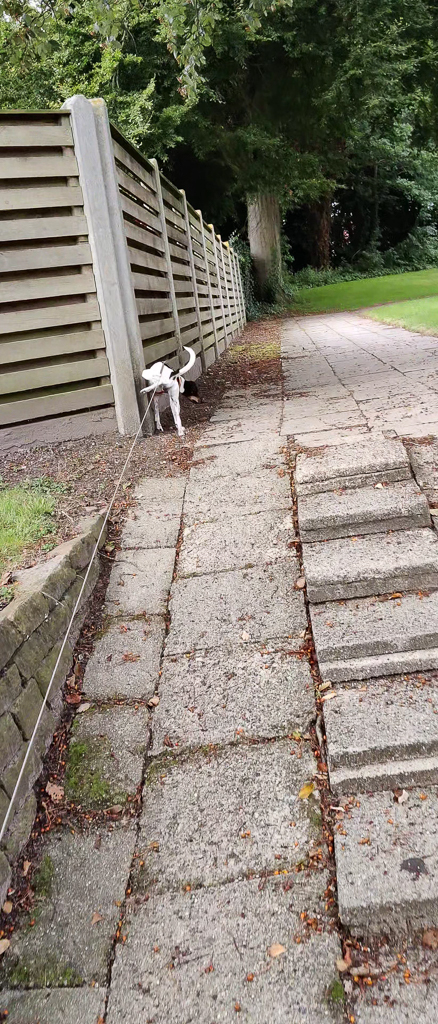Dog: (133, 339, 207, 447)
